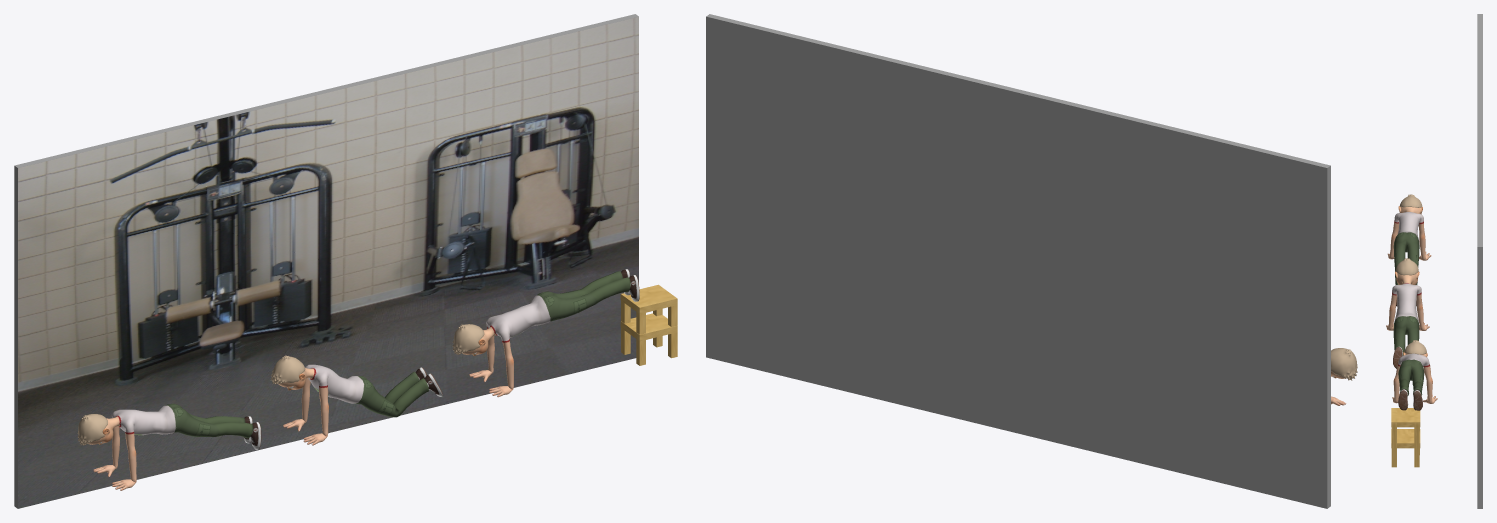
The model's file is male_pushup.dae.
The picture shows the model from 3 angles, left to right: view 1: azimuth 30°, elevation 25°; view 2: azimuth 150°, elevation 25°; view 3: azimuth 270°, elevation 25°; orthographic projection. The views are drawn at different scales.
Parts seen in each view (by area): view 1: background4, polySurface1 (×2), body3, polySurface3, pCube4, pCube10, hair1, completebody3; view 2: background4, polySurface1; view 3: background4, polySurface1 (×2), polySurface3, body3, pCube4, pCube10, completebody3, pCube8, pCube7, hair1.
Part boxes in pixels (x1=…): background4: x1=14, y1=14, x2=638, y2=508; polySurface1 (×2): x1=77, y1=364, x2=443, y2=445; body3: x1=462, y1=269, x2=639, y2=397; polySurface3: x1=88, y1=403, x2=261, y2=490; pCube4: x1=620, y1=284, x2=677, y2=313; pCube10: x1=620, y1=313, x2=677, y2=341; hair1: x1=452, y1=324, x2=484, y2=354; completebody3: x1=271, y1=355, x2=305, y2=384; background4: x1=706, y1=14, x2=1330, y2=508; polySurface1: x1=1331, y1=348, x2=1357, y2=380; background4: x1=1477, y1=14, x2=1482, y2=508; polySurface1 (×2): x1=1386, y1=194, x2=1429, y2=368; polySurface3: x1=1387, y1=206, x2=1431, y2=306; body3: x1=1392, y1=352, x2=1437, y2=410; pCube4: x1=1391, y1=408, x2=1420, y2=427; pCube10: x1=1391, y1=429, x2=1420, y2=448; completebody3: x1=1395, y1=258, x2=1418, y2=275; pCube8: x1=1414, y1=422, x2=1419, y2=467; pCube7: x1=1391, y1=422, x2=1396, y2=467; hair1: x1=1404, y1=340, x2=1426, y2=354.
Size of the model in its own units: 1.58 by 0.8304 by 0.2781.
